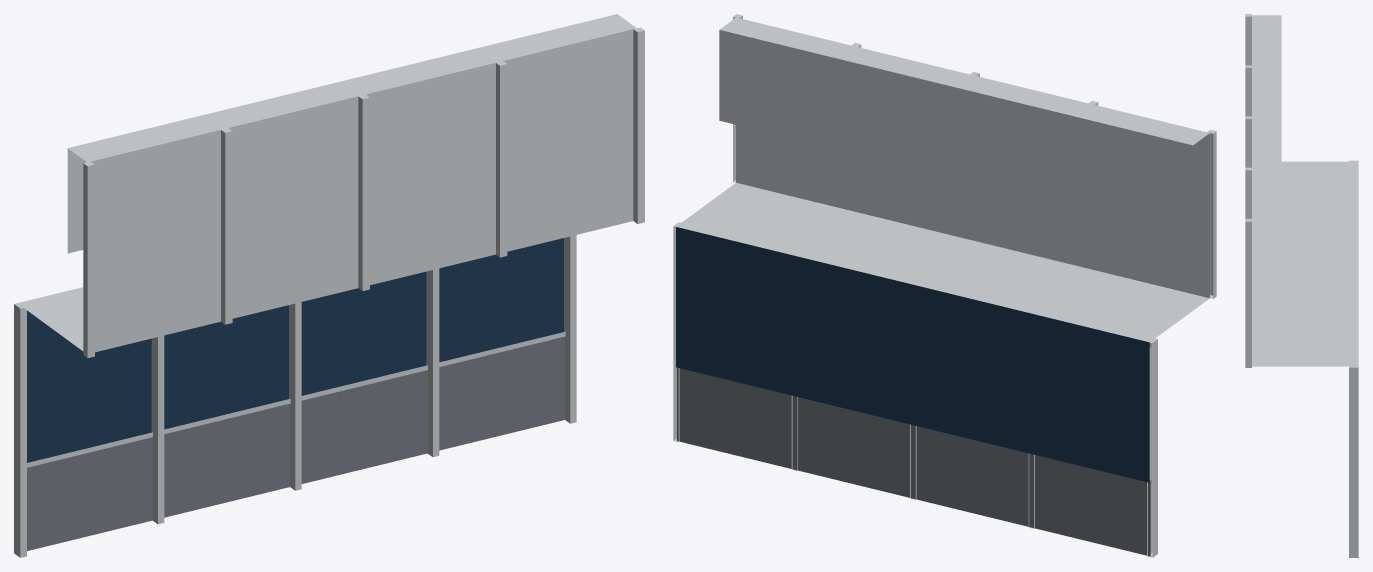
File: top-w1.fbx
3 renders of one model, left to right at view 1: azimuth 30°, elevation 25°; view 2: azimuth 150°, elevation 25°; view 3: azimuth 270°, elevation 25°, orthographic. The views are drawn at different scales.
Parts seen in each view (by area): view 1: a2010/0/top-w1; view 2: a2010/0/top-w1; view 3: a2010/0/top-w1.
Boxes of the visible parts, x1,y1,x2,y2 form: a2010/0/top-w1: (14,14,644,557); a2010/0/top-w1: (673,14,1216,557); a2010/0/top-w1: (1245,14,1358,557).
Size of the model in its own units: 6.08 by 4.6 by 1.4.
